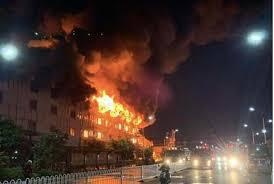fire: (85, 84, 146, 137)
